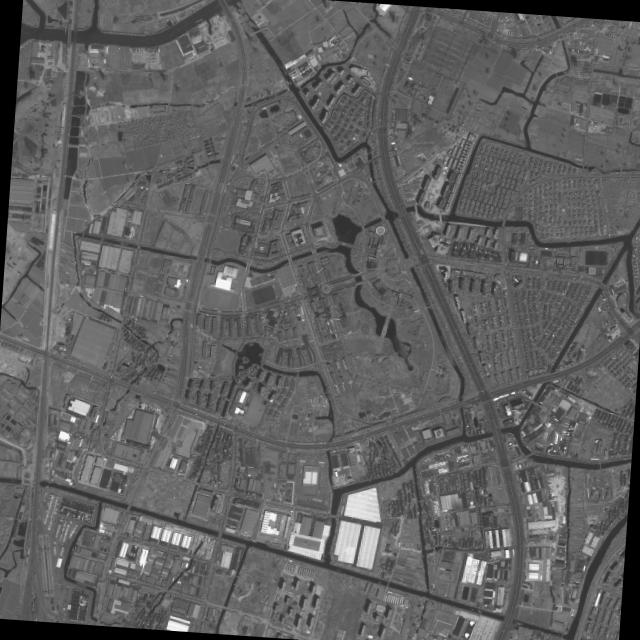ship: (193, 18, 202, 23), (241, 15, 247, 22), (242, 14, 248, 21), (234, 2, 240, 8), (235, 1, 241, 7), (237, 0, 243, 6), (243, 13, 249, 19), (236, 8, 242, 14), (246, 20, 251, 27), (238, 7, 243, 14), (248, 19, 252, 27), (239, 7, 244, 13), (240, 6, 245, 12), (250, 21, 254, 28), (205, 21, 208, 27), (285, 80, 288, 84)
